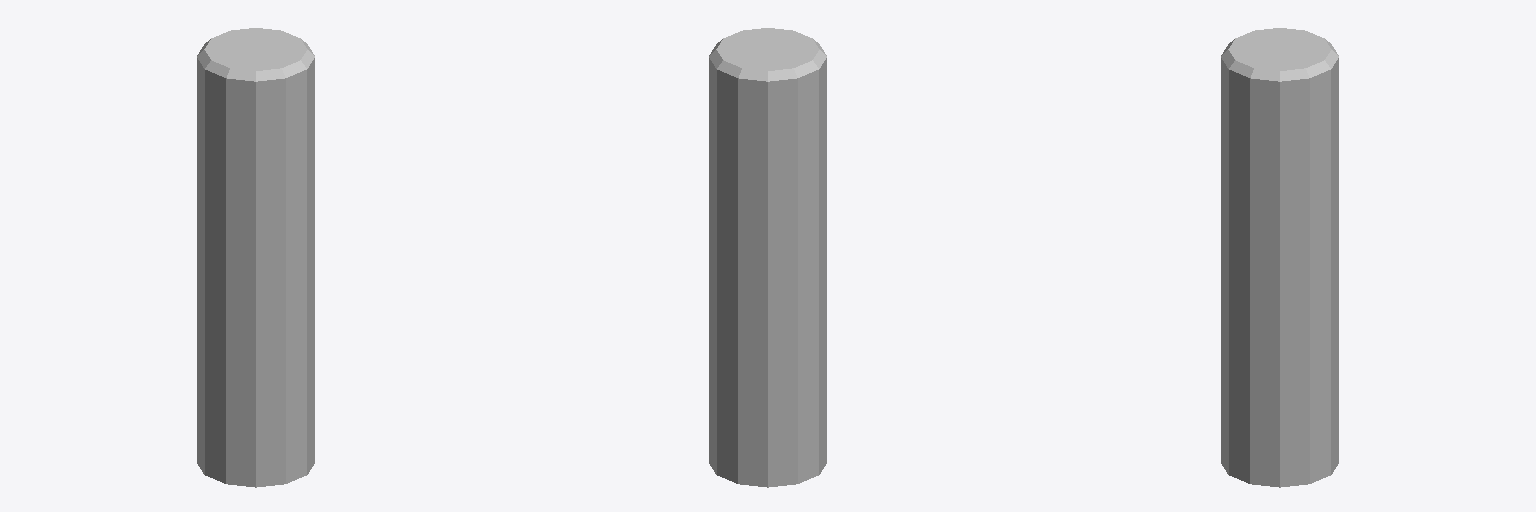
File: pool.obj
3 views of the same model, side by side, from view 1: azimuth 30°, elevation 25°; view 2: azimuth 150°, elevation 25°; view 3: azimuth 270°, elevation 25° (orthographic).
Parts seen in each view (by area): view 1: Circle.001_Circle.004; view 2: Circle.001_Circle.004; view 3: Circle.001_Circle.004.
Boxes of the visible parts, x1,y1,x2,y2 form: Circle.001_Circle.004: [197, 28, 314, 487]; Circle.001_Circle.004: [709, 28, 826, 487]; Circle.001_Circle.004: [1221, 28, 1338, 487].
Size of the model in its own units: 0.3 by 1.15 by 0.3.